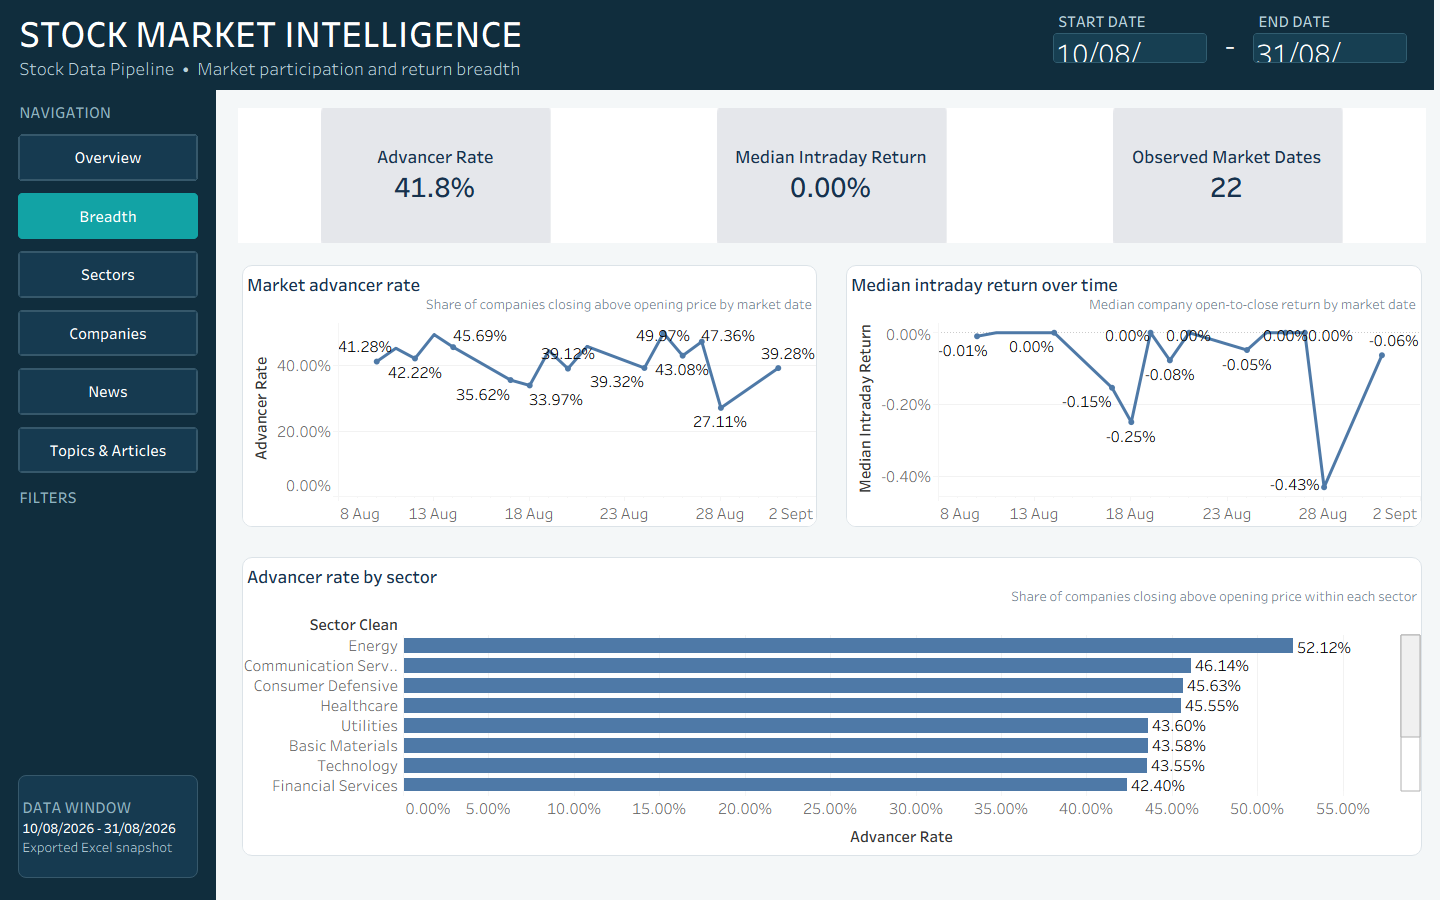

The dashboard page shown, as its layout file describes it:
{"tool":"tableau","page":{"name":"02. Market Breadth","canvas":[1440,900],"ordinal":1},"visuals":[{"type":"blank","box":[0,0,1440,900]},{"type":"text","box":[0,0,1434,90]},{"type":"text","box":[1055,10,150,22]},{"type":"text","box":[1255,10,160,22]},{"type":"parameter","param":"[Parameters].[Parameter 1300762280890369]","box":[1050,30,160,36]},{"type":"text","box":[1176,30,108,28]},{"type":"parameter","param":"[Parameters].[Parameter 1300762280984578]","box":[1250,30,160,36]},{"type":"blank","box":[0,90,216,810]},{"type":"text","box":[14.4,99,187.2,27]},{"type":"worksheet","title":"02. Market Breadth KPIs","mark":"Text","cols":["Calculation_KPIAxis1","Calculation_KPIAxis2","Calculation_KPIAxis3"],"box":[237.6,108,1188,135]},{"type":"dashboard-object","box":[14.4,130.5,187.2,54]},{"type":"dashboard-object","box":[14.4,189,187.2,54]},{"type":"dashboard-object","box":[14.4,247.5,187.2,54]},{"type":"worksheet","title":"Market Advancer Rate Trend","mark":"Automatic","rows":["Calculation_AdvancerFlag"],"cols":["date"],"box":[237.6,261,583.2,270]},{"type":"worksheet","title":"Market Median Return Trend","mark":"Line","rows":["Calculation_DailyReturn"],"cols":["date"],"box":[842.4,261,583.2,270]},{"type":"dashboard-object","box":[14.4,306,187.2,54]},{"type":"dashboard-object","box":[14.4,364.5,187.2,54]},{"type":"dashboard-object","box":[14.4,423,187.2,54]},{"type":"text","box":[14.4,486,187.2,22.5]},{"type":"worksheet","title":"Advancer Rate by Sector","mark":"Automatic","rows":["Calculation_SectorClean"],"cols":["Calculation_AdvancerFlag"],"box":[237.6,553.5,1188,306]},{"type":"text","box":[14,771,188,111]},{"type":"text","box":[15,809,172,38]}]}

Visuals, with their boxes in screenshot pixels (x1, y1, x2, y2), scaled from the page's 1440x900 canvas onto the 1440x900 screenshot:
blank: pyautogui.locateOnScreen(0, 0, 1439, 899)
text: pyautogui.locateOnScreen(0, 0, 1434, 90)
text: pyautogui.locateOnScreen(1055, 10, 1205, 32)
text: pyautogui.locateOnScreen(1255, 10, 1415, 32)
parameter: pyautogui.locateOnScreen(1050, 30, 1210, 66)
text: pyautogui.locateOnScreen(1176, 30, 1284, 58)
parameter: pyautogui.locateOnScreen(1250, 30, 1410, 66)
blank: pyautogui.locateOnScreen(0, 90, 216, 899)
text: pyautogui.locateOnScreen(14, 99, 202, 126)
"02. Market Breadth KPIs" worksheet (Text marks): pyautogui.locateOnScreen(238, 108, 1426, 243)
dashboard-object: pyautogui.locateOnScreen(14, 130, 202, 184)
dashboard-object: pyautogui.locateOnScreen(14, 189, 202, 243)
dashboard-object: pyautogui.locateOnScreen(14, 248, 202, 302)
"Market Advancer Rate Trend" worksheet: pyautogui.locateOnScreen(238, 261, 821, 531)
"Market Median Return Trend" worksheet (Line marks): pyautogui.locateOnScreen(842, 261, 1426, 531)
dashboard-object: pyautogui.locateOnScreen(14, 306, 202, 360)
dashboard-object: pyautogui.locateOnScreen(14, 364, 202, 418)
dashboard-object: pyautogui.locateOnScreen(14, 423, 202, 477)
text: pyautogui.locateOnScreen(14, 486, 202, 508)
"Advancer Rate by Sector" worksheet: pyautogui.locateOnScreen(238, 554, 1426, 860)
text: pyautogui.locateOnScreen(14, 771, 202, 882)
text: pyautogui.locateOnScreen(15, 809, 187, 847)
